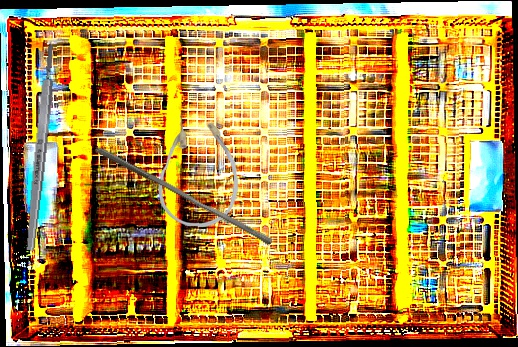Cannula: (157, 113, 241, 228)
Pusher: (90, 145, 277, 246)
Scalpel Handle: (23, 43, 58, 252)
